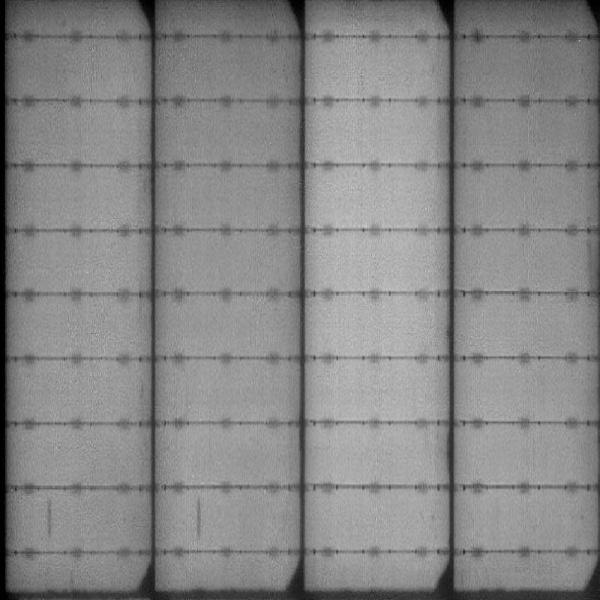scratch: (42, 494, 58, 543), (190, 490, 204, 542)
